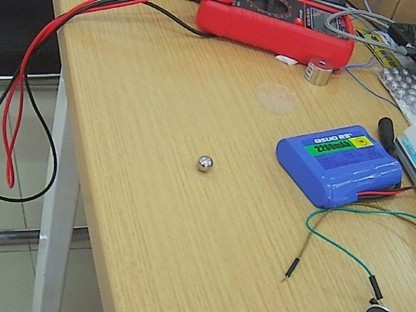ironball: (189, 149, 215, 175)
